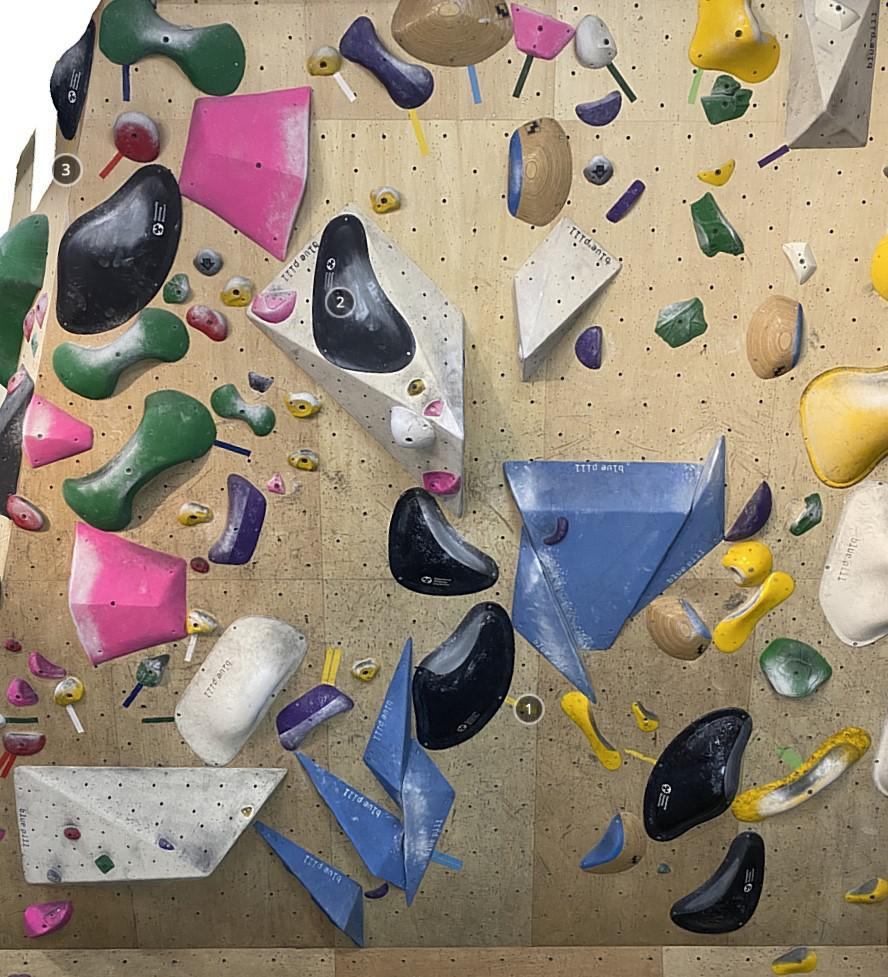hold: (502, 461, 703, 650), (178, 85, 312, 261), (63, 390, 216, 531), (56, 164, 181, 334), (174, 615, 308, 767), (628, 434, 725, 618), (69, 521, 189, 665), (312, 215, 415, 372), (295, 752, 406, 891), (512, 525, 597, 704), (412, 601, 514, 750), (644, 707, 752, 842), (253, 821, 364, 948), (100, 0, 246, 96), (731, 727, 871, 823), (52, 307, 188, 400), (389, 487, 498, 595), (819, 480, 888, 647), (799, 365, 888, 488), (670, 831, 764, 934), (402, 738, 455, 907), (340, 16, 434, 109), (363, 637, 413, 811), (0, 214, 48, 389), (392, 0, 514, 67), (689, 0, 780, 82), (507, 117, 572, 226), (712, 571, 795, 653), (50, 18, 95, 140), (21, 394, 93, 468), (276, 684, 354, 751), (208, 474, 266, 564), (560, 690, 622, 771), (747, 295, 803, 379), (760, 638, 832, 697), (580, 811, 646, 873), (645, 598, 711, 660), (511, 2, 576, 60), (691, 192, 744, 257), (211, 383, 276, 436), (725, 481, 772, 541), (655, 297, 707, 348), (113, 111, 160, 163), (722, 540, 773, 587), (576, 15, 617, 69), (391, 406, 436, 449), (23, 900, 73, 938), (701, 89, 753, 125), (575, 90, 621, 126), (606, 180, 645, 222), (186, 304, 228, 342), (781, 242, 816, 284), (789, 493, 823, 536), (252, 290, 296, 322), (815, 0, 860, 31), (872, 714, 888, 798), (6, 495, 43, 531), (771, 947, 817, 975), (843, 877, 888, 904), (871, 230, 888, 300), (575, 326, 602, 369), (306, 45, 343, 76), (135, 655, 169, 687), (29, 652, 67, 679), (697, 159, 735, 186), (422, 470, 462, 495), (52, 676, 84, 707), (220, 275, 252, 306), (284, 392, 322, 418), (3, 733, 46, 755), (583, 155, 613, 185), (6, 678, 38, 706), (370, 186, 402, 214), (177, 502, 214, 526), (632, 700, 659, 732), (186, 609, 218, 635), (194, 247, 222, 276), (163, 273, 190, 303), (352, 657, 381, 683), (543, 516, 569, 544), (286, 449, 319, 471), (711, 75, 740, 96), (248, 371, 274, 392), (35, 292, 48, 329), (266, 471, 286, 494), (7, 370, 25, 394), (23, 309, 35, 342), (364, 883, 388, 899), (95, 855, 114, 873), (423, 399, 443, 416), (407, 379, 426, 396), (191, 557, 209, 574), (4, 639, 22, 652), (64, 827, 81, 840), (158, 838, 174, 850), (31, 330, 38, 356), (656, 863, 671, 873), (517, 344, 524, 362), (241, 807, 252, 817), (0, 713, 6, 729), (0, 829, 5, 841)
volume: (246, 202, 465, 519), (13, 766, 288, 884), (512, 216, 621, 381), (786, 0, 880, 148), (0, 365, 34, 520)
